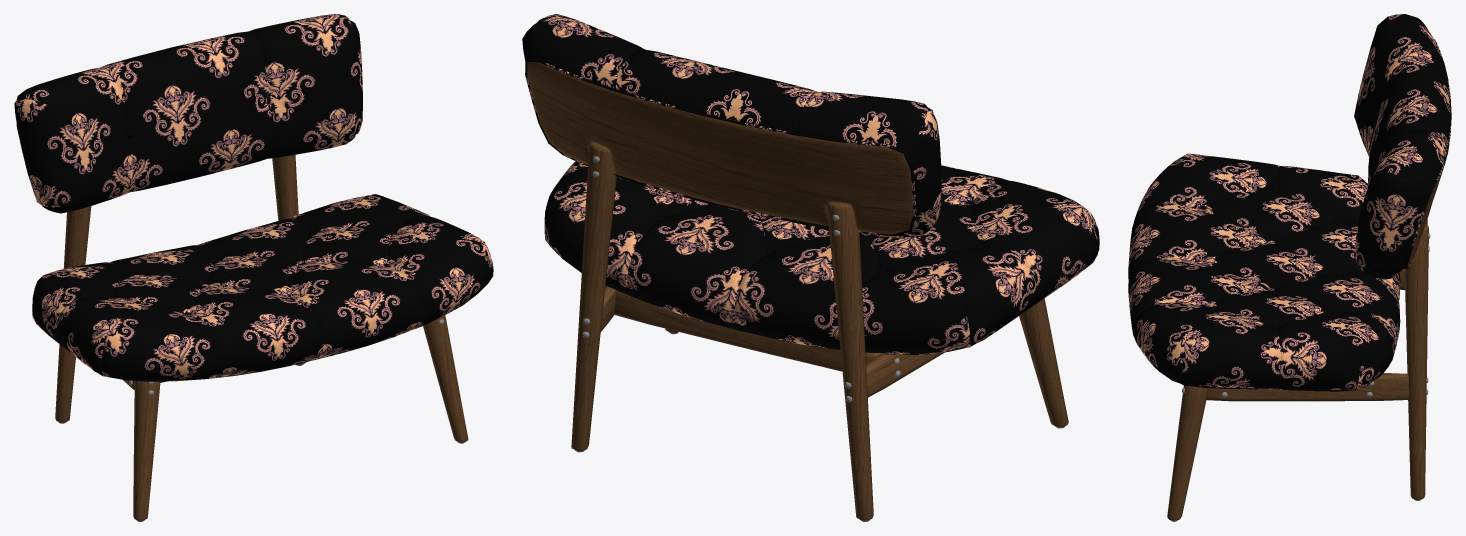
The model's file is armchair.glb.
The picture shows the model from 3 angles, left to right: view 1: azimuth 30°, elevation 25°; view 2: azimuth 150°, elevation 25°; view 3: azimuth 270°, elevation 25°; orthographic projection. The views are drawn at different scales.
Visible parts, largest first — view 1: oval-tufted-chair_seat-fabric, oval-tufted-chair_back-fabric, oval-tufted-chair_legs-frame; view 2: oval-tufted-chair_seat-fabric, oval-tufted-chair_back-panel, oval-tufted-chair_legs-frame, oval-tufted-chair_back-fabric, oval-tufted-chair_back-welt; view 3: oval-tufted-chair_seat-fabric, oval-tufted-chair_back-fabric, oval-tufted-chair_legs-frame, oval-tufted-chair_back-welt, oval-tufted-chair_back-panel.
Boxes of the visible parts, x1,y1,x2,y2 form: oval-tufted-chair_seat-fabric: (32,194,493,380); oval-tufted-chair_back-fabric: (14,14,362,213); oval-tufted-chair_legs-frame: (55,154,468,520); oval-tufted-chair_seat-fabric: (544,161,1099,354); oval-tufted-chair_back-panel: (527,62,913,234); oval-tufted-chair_legs-frame: (571,142,1068,520); oval-tufted-chair_back-fabric: (522,14,941,237); oval-tufted-chair_back-welt: (525,58,916,236); oval-tufted-chair_seat-fabric: (1128,153,1400,390); oval-tufted-chair_back-fabric: (1354,14,1450,279); oval-tufted-chair_legs-frame: (1167,219,1428,520); oval-tufted-chair_back-welt: (1404,39,1451,268); oval-tufted-chair_back-panel: (1407,169,1443,266).
Bounding box in the file's own units: 0.8286 × 0.6874 × 0.5718.
4 materials, 3 textured.
